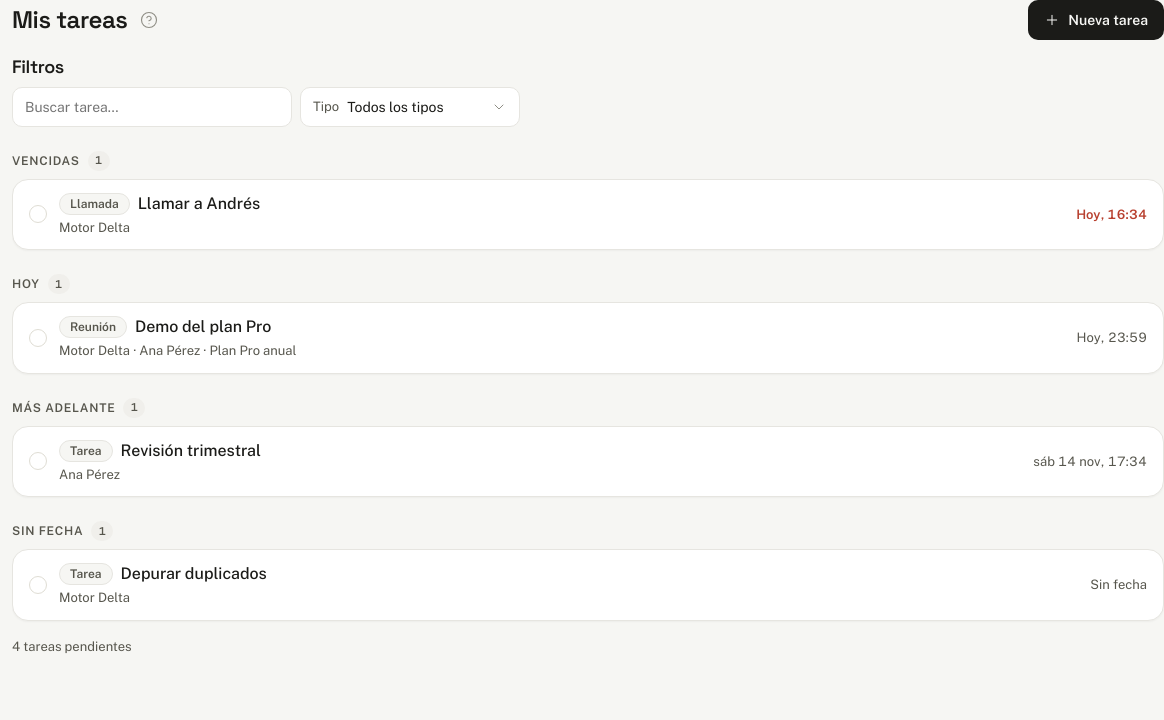
Scenario: MyTasksPage › (c) si el PATCH falla, la fila vuelve a su bloque y se muestra el error
Check: the text "Llamar a Andrés" is shown, box [138,192,260,216]
Click the checkbox named "Completar: Llamar a Andrés" at {"x": 38, "y": 214}, box [29,205,47,223]
(page scrolled)
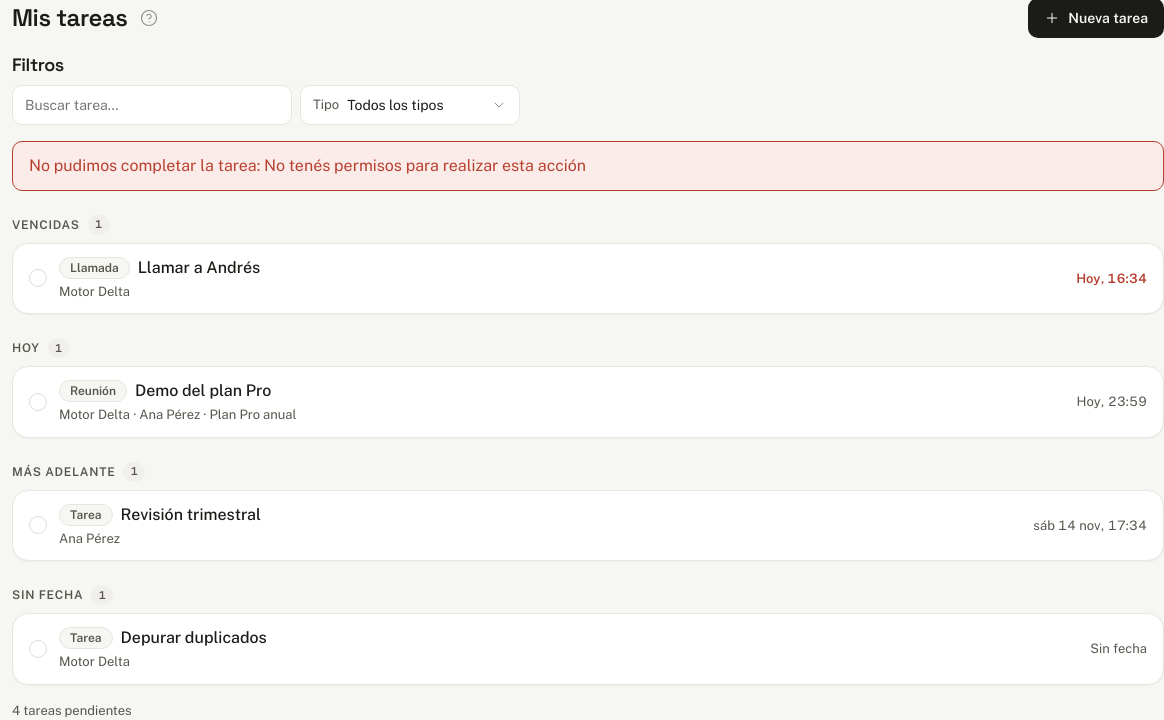
Check: the text "Llamar a Andrés" is shown, box [138,256,260,280]
Check: the message reads "No pudimos completar la tarea: No tenés permisos para realizar esta acción", box [12,140,1163,190]
